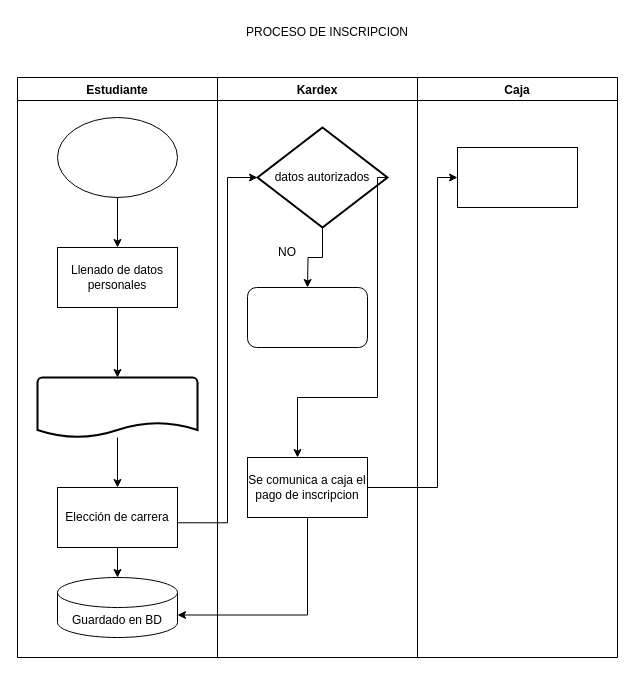
The diagram is 635 pixels wide and 675 high, and some of its shapes have lost their labels. Here are the shapes that lost their labels. From the top down, the centre of each, then its label:
(117,157): Se encuentra en el rango de las fechas de inscripción
(517,177): Realiza facturación
(307,317): Notifica causa negativa
(117,407): Presentación de documentos prefacultativos
